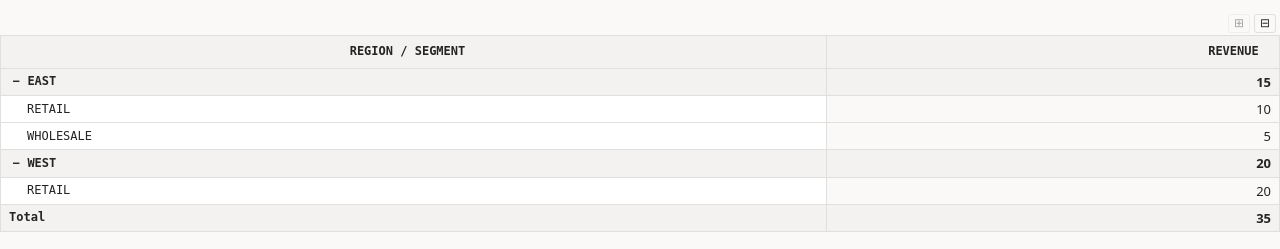
Test: MatrixTable › collapses and expands the whole hierarchy from the toolbar
Check: the number of column headings "RETAIL" is 2, box [0,96,827,123]; [0,178,827,205]
Click the button named "Collapse all": (1265, 23) [1254,14,1276,33]
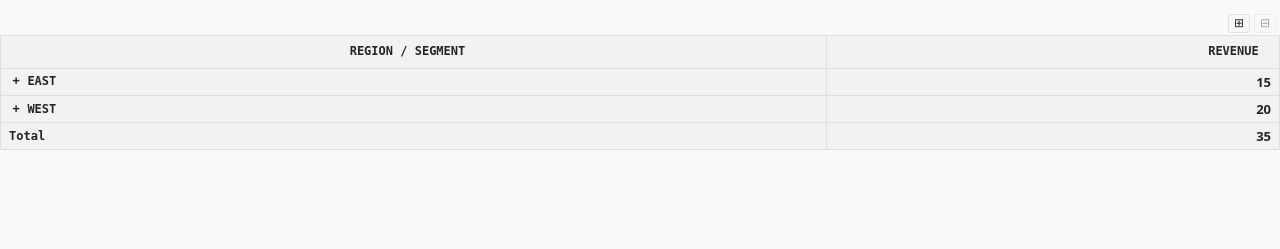
Check: the row "+ EAST 15" is shown, box [0,69,1279,96]
Check: the column heading "RETAIL" is gone
Click the button named "Expand all": (1239, 23) [1228,14,1250,33]
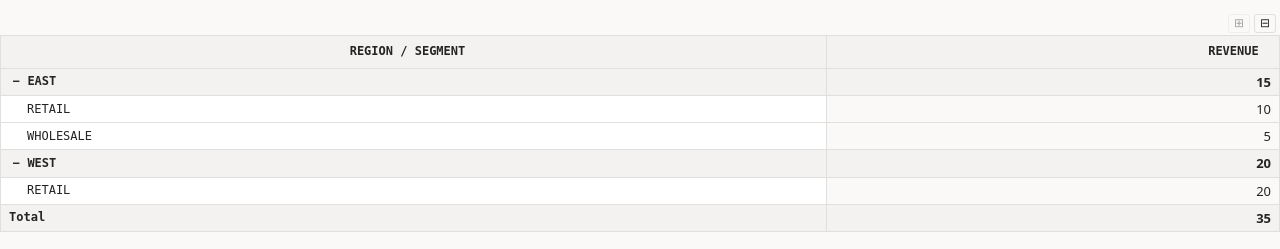
Check: the number of column headings "RETAIL" is 2, box [0,96,827,123]; [0,178,827,205]
